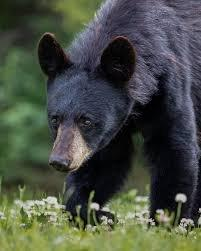bear: (37, 0, 201, 230)
